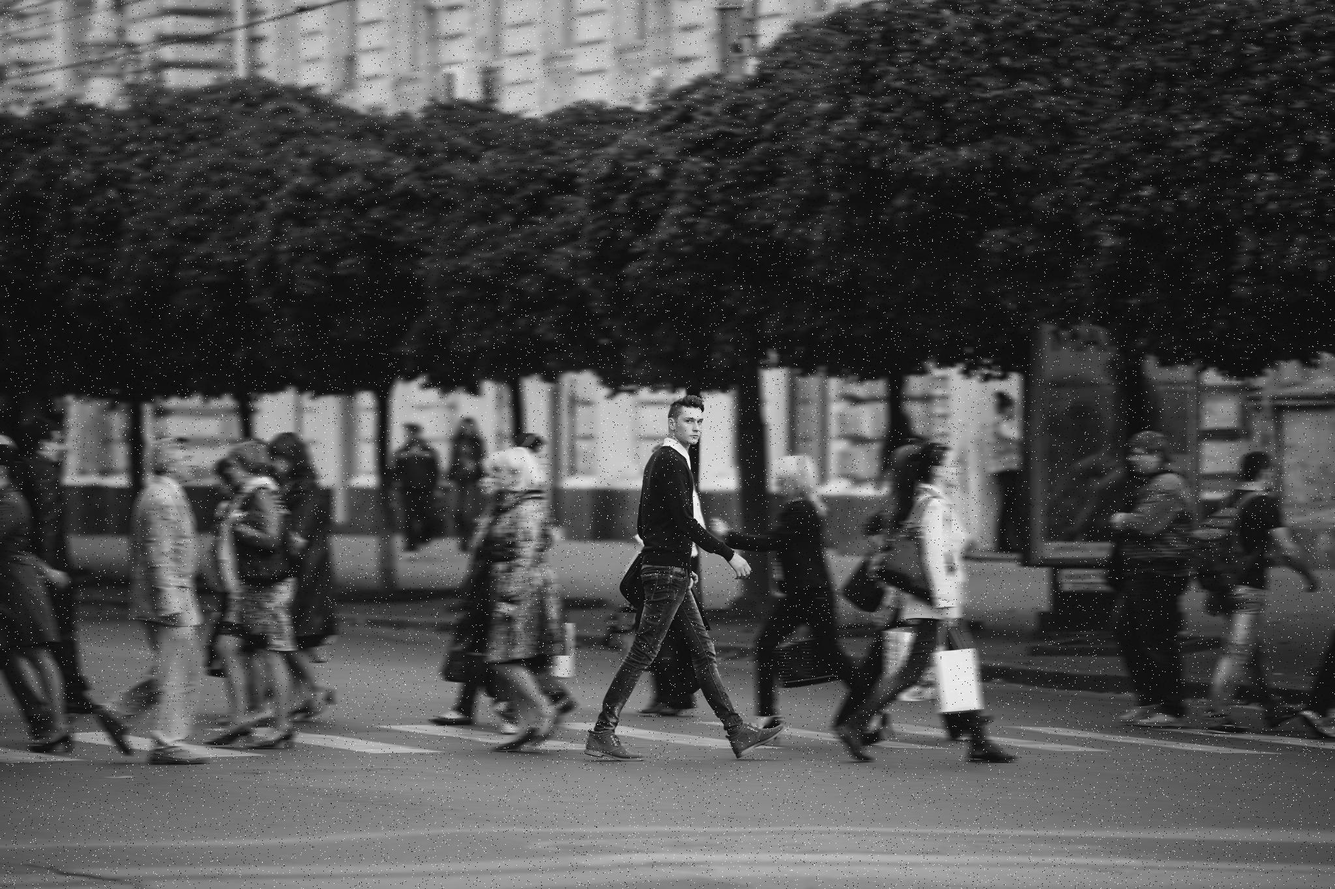pedestrian: (580, 396, 779, 758), (836, 442, 1002, 761), (81, 432, 210, 758), (209, 434, 339, 749), (708, 455, 852, 734), (455, 451, 582, 757), (1190, 449, 1319, 734), (1082, 437, 1202, 732), (0, 441, 75, 752), (267, 435, 341, 718), (391, 428, 450, 555), (20, 430, 70, 575), (989, 395, 1029, 561), (445, 421, 486, 539)
